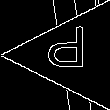P_S: (52, 30, 94, 80)
